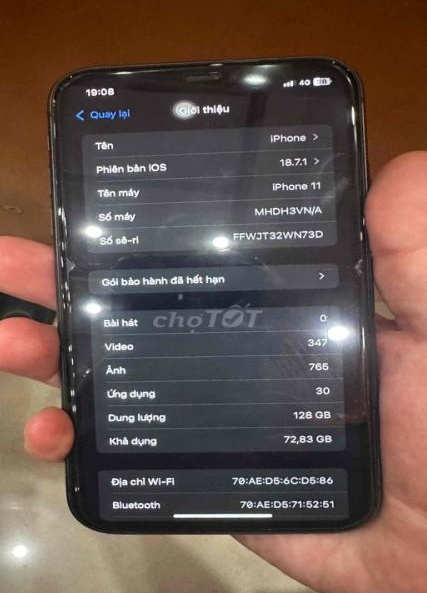physical_damage: (45, 189, 136, 447), (44, 73, 98, 137), (342, 223, 371, 288)
